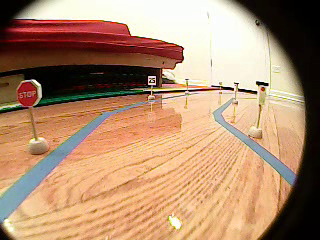Red Traffic Light: (256, 82, 267, 109)
Speed Limit 25: (147, 75, 157, 85)
Stop Sign: (15, 79, 43, 107)
